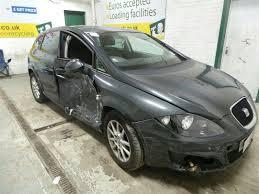Door: (53, 29, 101, 130)
